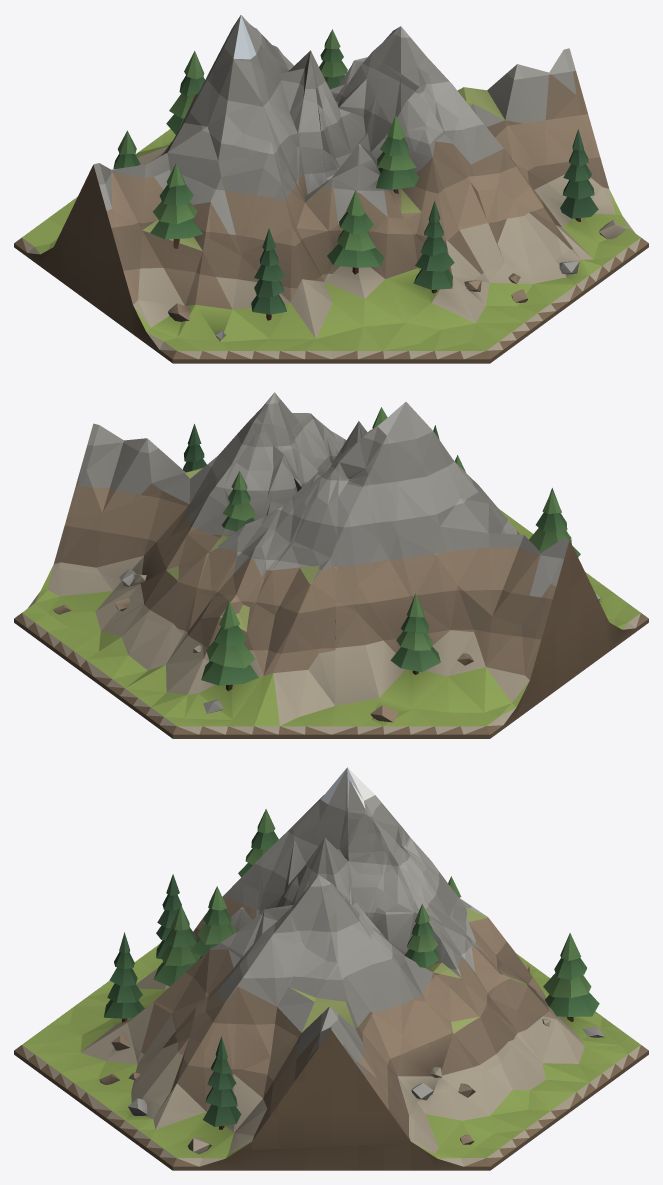
Rendered from mountain_ridge.glb.
The picture shows the model from 3 angles, top to bottom: view 1: azimuth 30°, elevation 25°; view 2: azimuth 150°, elevation 25°; view 3: azimuth 270°, elevation 25°; orthographic projection.
Visible parts, largest first — view 1: mountain_ridge; view 2: mountain_ridge; view 3: mountain_ridge.
Part boxes in pixels (x1,y1,x2,y2): mountain_ridge: (14,15,648,363); mountain_ridge: (14,392,648,738); mountain_ridge: (14,767,648,1170).
Bounding box in the file's own units: 17.32 × 8.59 × 20.
